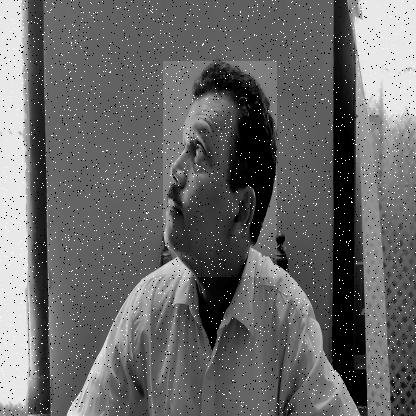Distracted: (163, 61, 277, 277)
